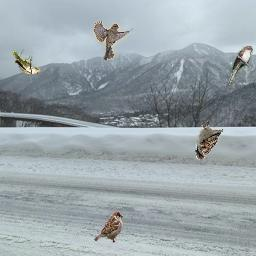Cuckoo: (227, 46, 253, 86), (12, 49, 41, 74)
Sparrow: (94, 20, 133, 60), (195, 120, 223, 160), (94, 211, 123, 243)
